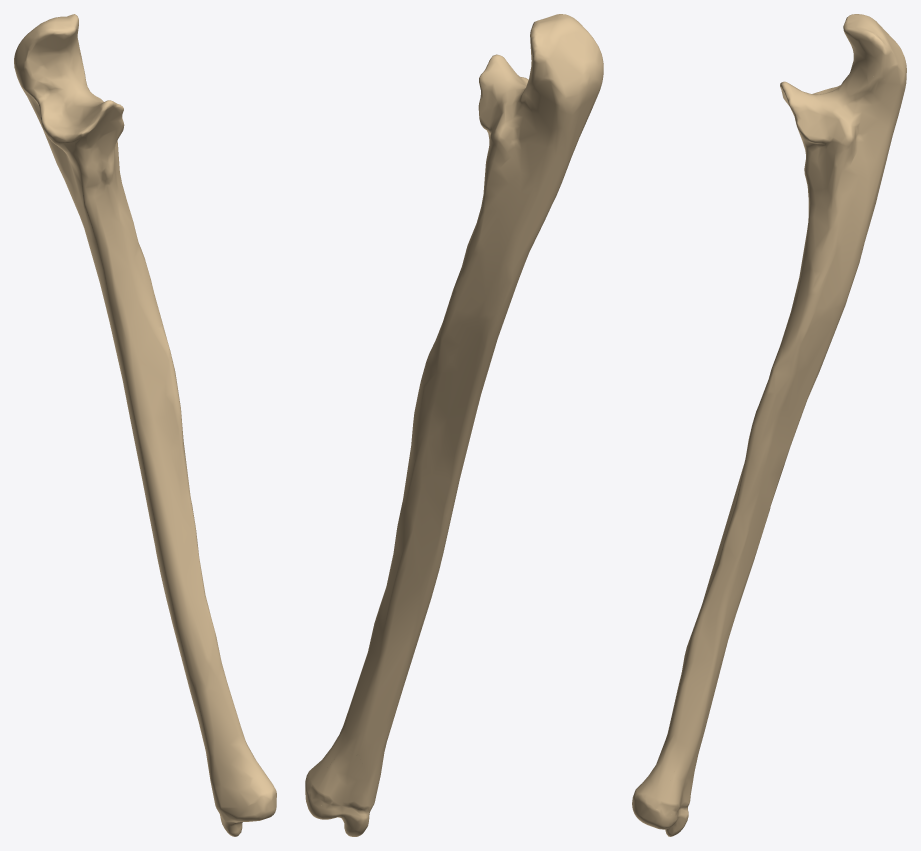
The model's file is explorar-ulna.glb.
3 views of the same model, side by side, from view 1: azimuth 30°, elevation 25°; view 2: azimuth 210°, elevation 25°; view 3: azimuth 270°, elevation 25° (orthographic). The views are drawn at different scales.
Parts seen in each view (by area): view 1: ulna_left__cuerpo, ulna_left__base, ulna_left__olecranon, ulna_left__cabeza; view 2: ulna_left__cuerpo, ulna_left__base, ulna_left__olecranon, ulna_left__cabeza; view 3: ulna_left__cuerpo, ulna_left__base, ulna_left__olecranon, ulna_left__cabeza.
Part boxes in pixels (bbox=[...]): ulna_left__cuerpo: bbox=[43, 129, 255, 785]; ulna_left__base: bbox=[15, 58, 265, 785]; ulna_left__olecranon: bbox=[14, 14, 85, 97]; ulna_left__cabeza: bbox=[208, 759, 276, 836]; ulna_left__cuerpo: bbox=[328, 149, 570, 778]; ulna_left__base: bbox=[307, 54, 601, 806]; ulna_left__olecranon: bbox=[525, 14, 603, 103]; ulna_left__cabeza: bbox=[305, 748, 383, 836]; ulna_left__cuerpo: bbox=[657, 129, 892, 774]; ulna_left__base: bbox=[649, 70, 906, 816]; ulna_left__olecranon: bbox=[843, 14, 906, 96]; ulna_left__cabeza: bbox=[632, 756, 694, 836].
Bounding box in the file's own units: 0.0508 × 0.2476 × 0.0796.
